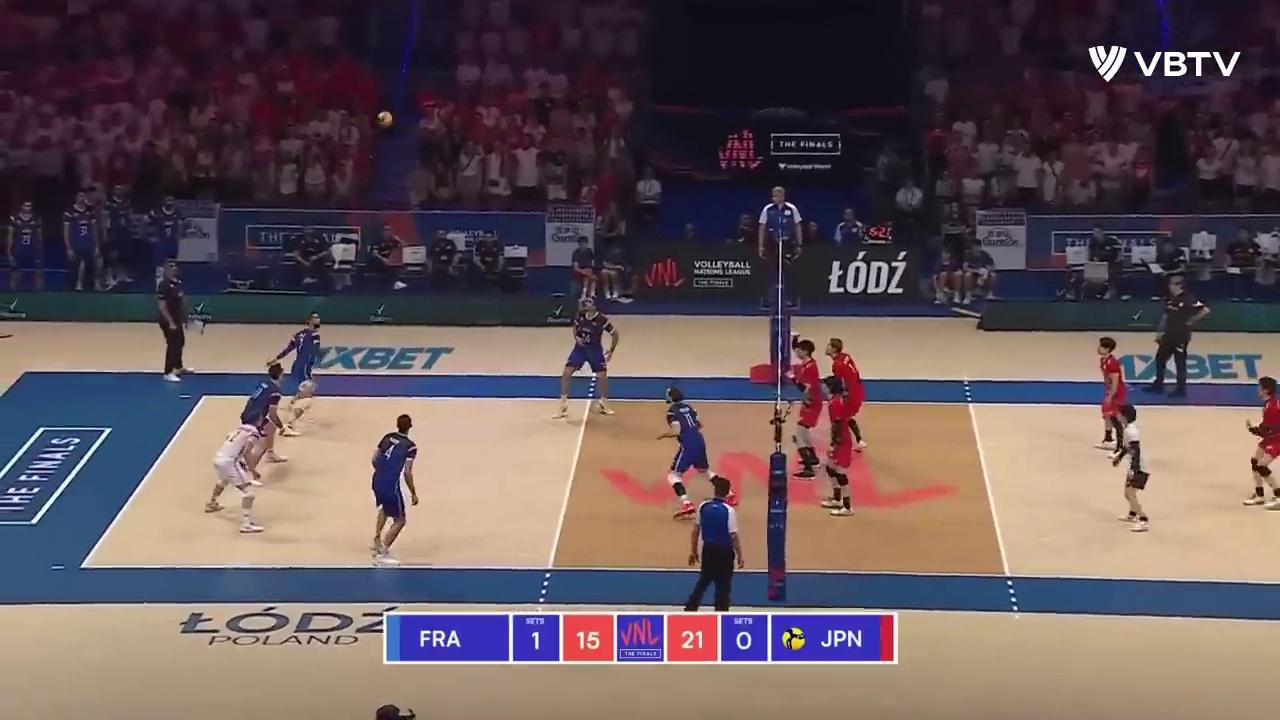ball: (377, 112, 392, 127)
